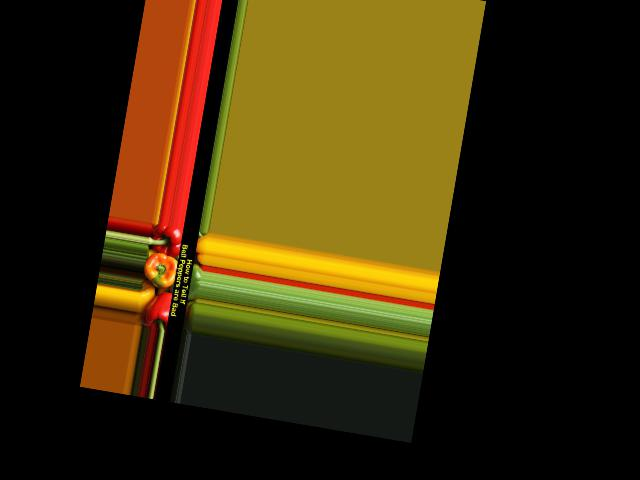bell_pepper: (146, 224, 185, 259)
